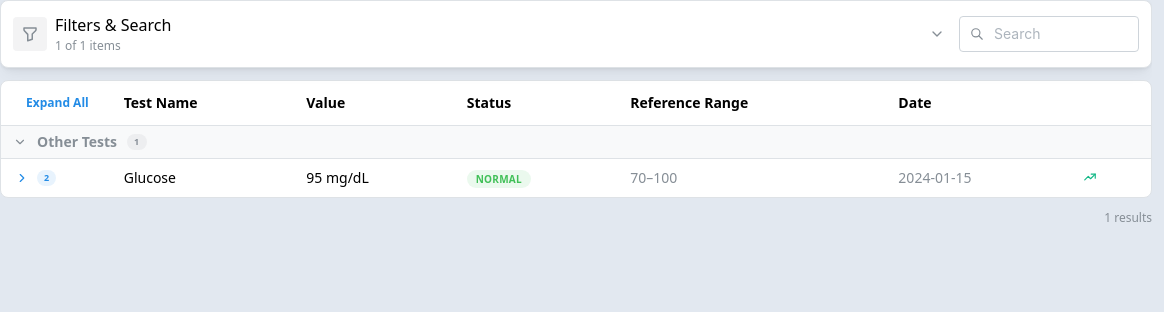
it: LabResultsComponentTable › collapses individual test when expand button clicked again
Click the button with test id "expand-btn-glucose" at coordinates (22, 178), box left=11, top=167, right=33, bottom=189
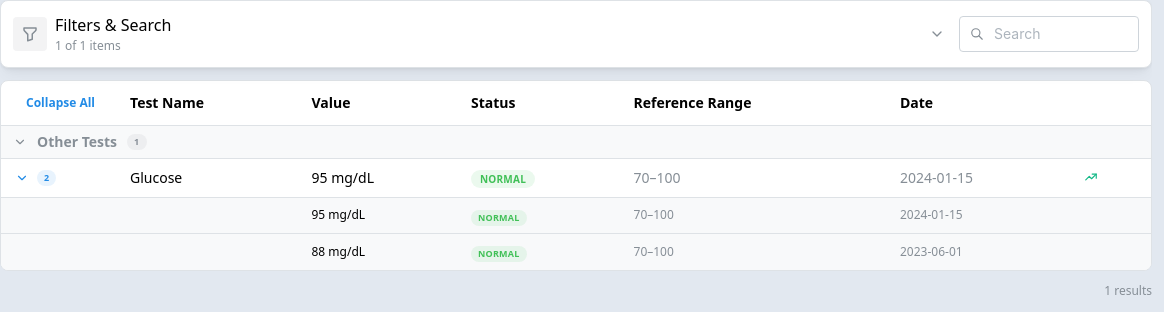
Now the row with test id "history-row-1" is shown, box left=1, top=197, right=1151, bottom=234
Click the button with test id "expand-btn-glucose" at coordinates (22, 178), box left=11, top=167, right=33, bottom=189
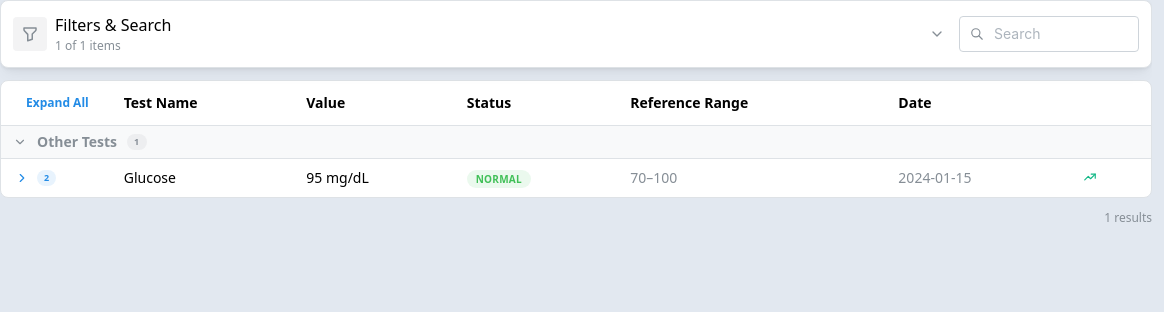
Now the row with test id "history-row-1" is gone
